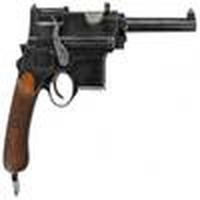gun: (4, 1, 195, 177)
